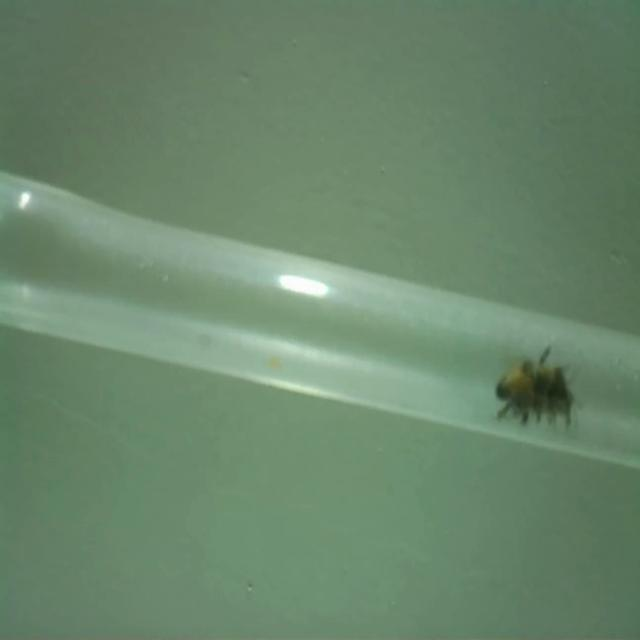Honeybee-Detection: (496, 348, 550, 424), (533, 346, 575, 429)
